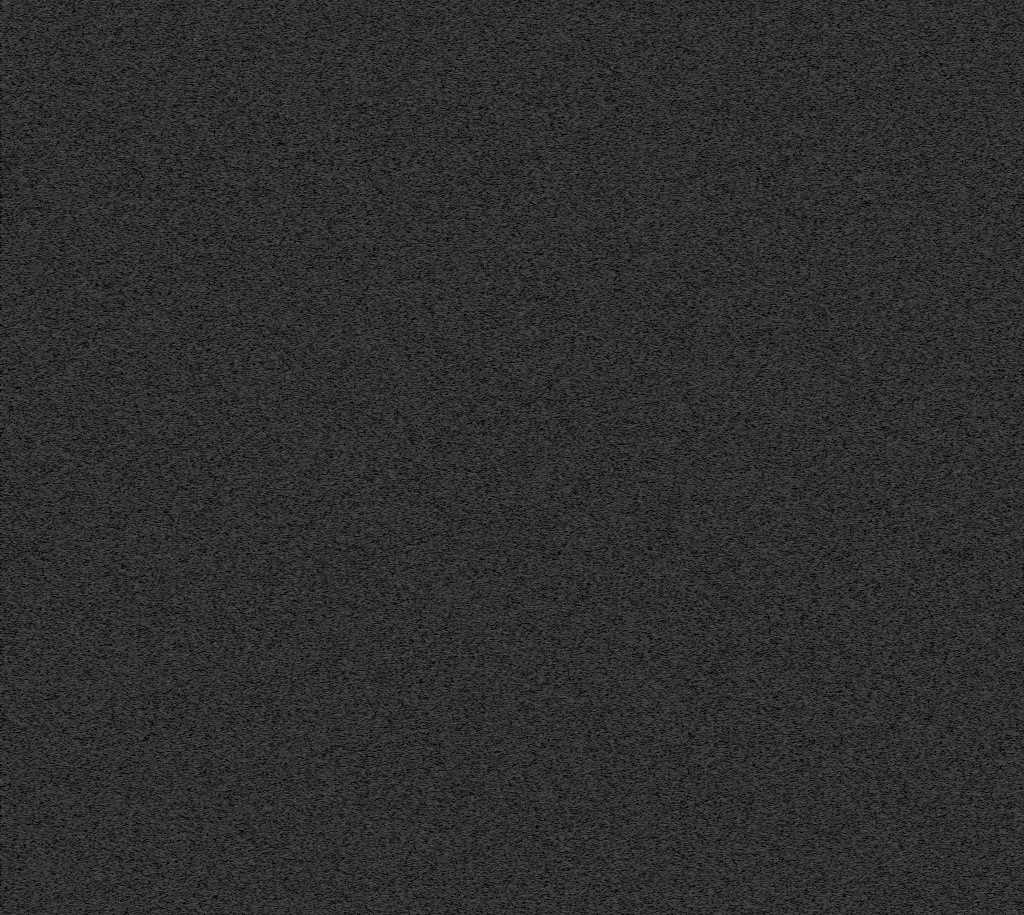wv_am: (549, 0, 555, 915), (376, 0, 382, 915), (110, 0, 115, 915), (515, 280, 520, 630), (515, 0, 520, 278), (515, 647, 520, 915), (515, 632, 520, 646)
wv_cw: (561, 0, 566, 915), (458, 0, 462, 915)
wv_lsb: (562, 5, 568, 915), (338, 201, 344, 728), (338, 51, 344, 200), (338, 758, 343, 817), (338, 8, 344, 50), (338, 883, 343, 915), (338, 838, 343, 866), (338, 729, 343, 757), (338, 818, 343, 837), (339, 873, 343, 881), (339, 867, 343, 872)
wv_usb: (476, 284, 481, 324), (476, 658, 480, 684), (476, 603, 480, 629), (476, 576, 480, 602), (476, 542, 480, 568), (476, 486, 480, 512), (476, 516, 480, 541), (476, 460, 480, 485), (476, 192, 480, 216), (476, 325, 480, 347), (476, 435, 480, 456), (476, 636, 480, 656), (476, 377, 480, 393), (476, 360, 480, 376), (477, 723, 480, 740), (476, 699, 480, 711), (477, 753, 480, 768), (476, 418, 480, 426), (476, 908, 480, 915), (476, 410, 480, 417), (476, 893, 480, 900), (476, 352, 480, 359), (476, 394, 480, 400), (476, 271, 480, 277), (477, 848, 480, 855), (476, 401, 480, 406), (476, 278, 480, 283), (476, 265, 480, 270), (476, 879, 480, 884), (476, 233, 480, 238), (476, 227, 480, 232), (476, 221, 480, 226), (477, 901, 480, 907), (477, 841, 480, 847), (476, 873, 480, 877), (477, 812, 480, 817), (477, 186, 480, 191), (477, 180, 480, 185), (477, 864, 480, 869), (477, 631, 480, 635), (477, 570, 480, 574), (477, 428, 480, 432), (476, 259, 480, 262), (476, 253, 480, 256), (476, 247, 480, 250), (476, 241, 480, 244), (476, 217, 480, 220), (477, 152, 480, 156), (477, 822, 480, 826)
